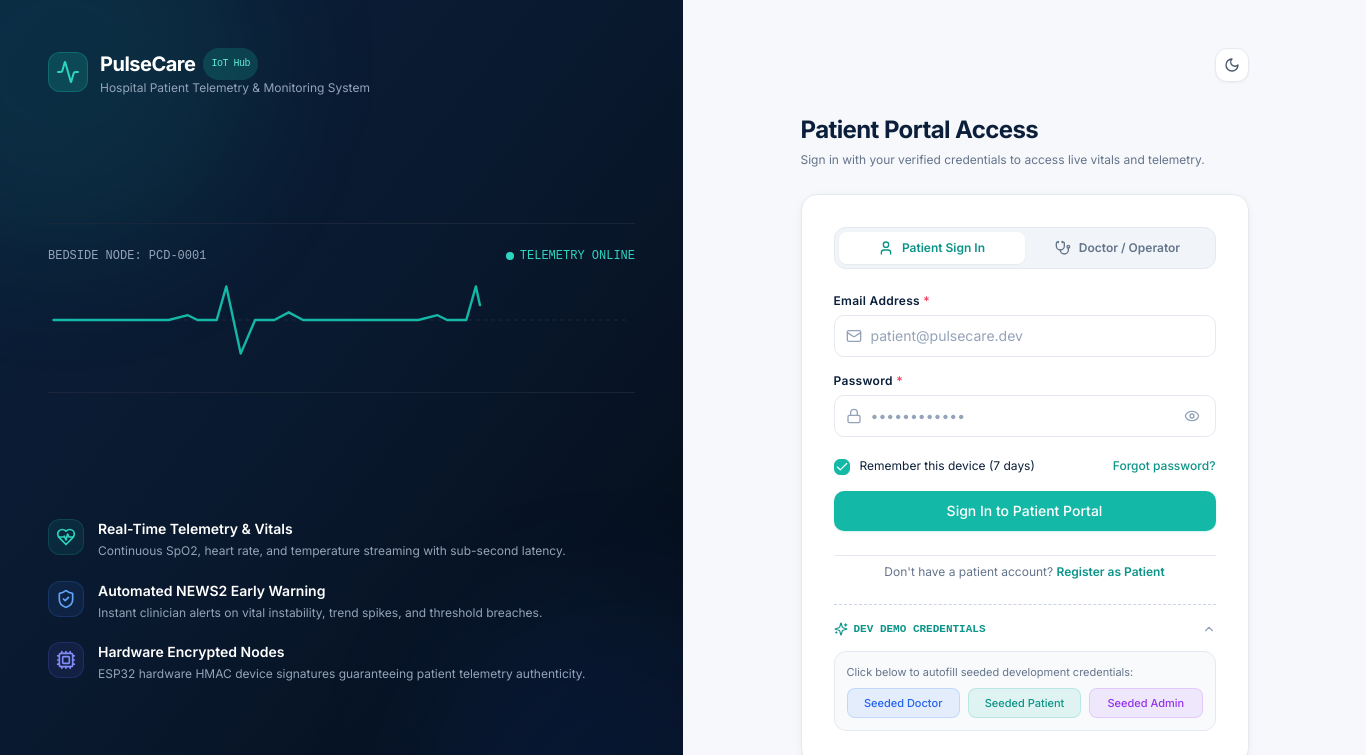
Scenario: PulseCare Frontend: LoginPage Component › displays server error message on login failure
Type "doctor@pulsecare.dev" into the field labelled "Email Address *".
click(1024, 336); type("doctor@pulsecare.dev")  # box [834,314,1216,356]
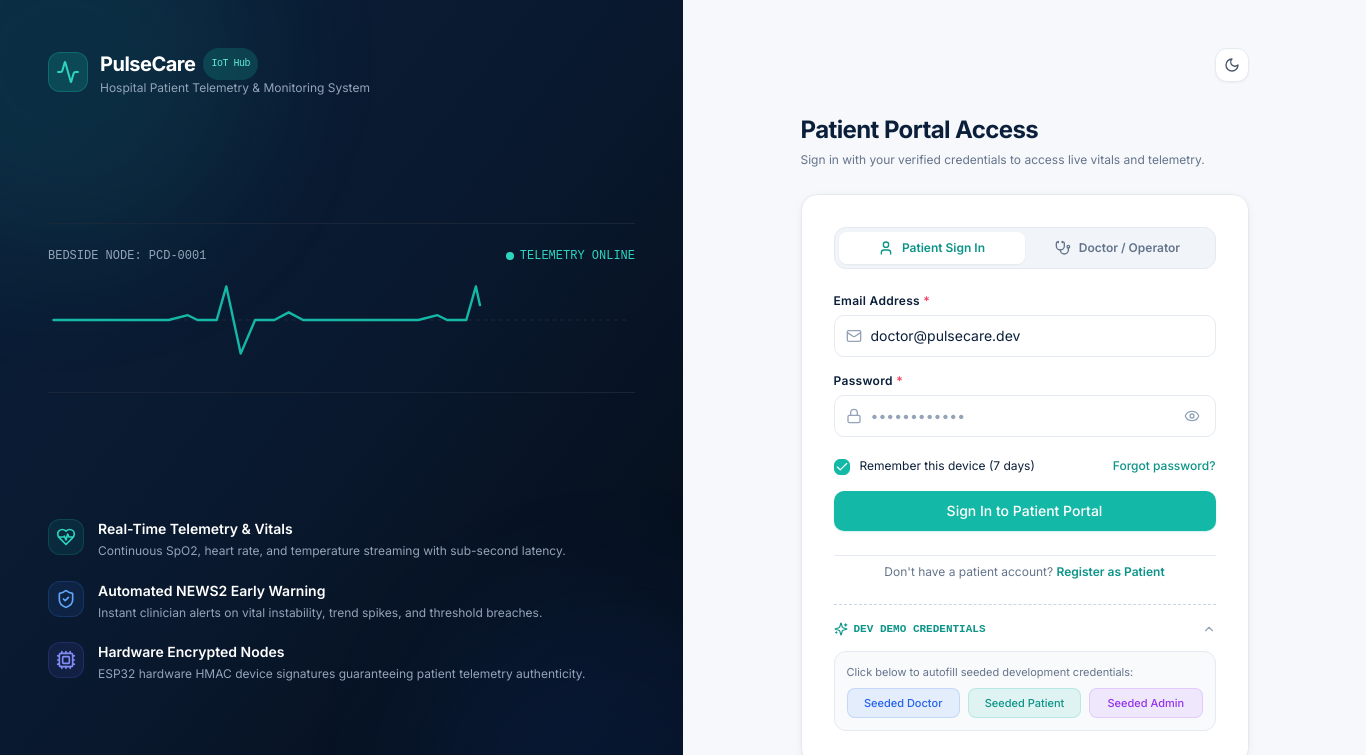
Type "WrongPass!" into the password field labelled "Password *".
click(1024, 416); type("WrongPass!")  # box [834,394,1216,436]
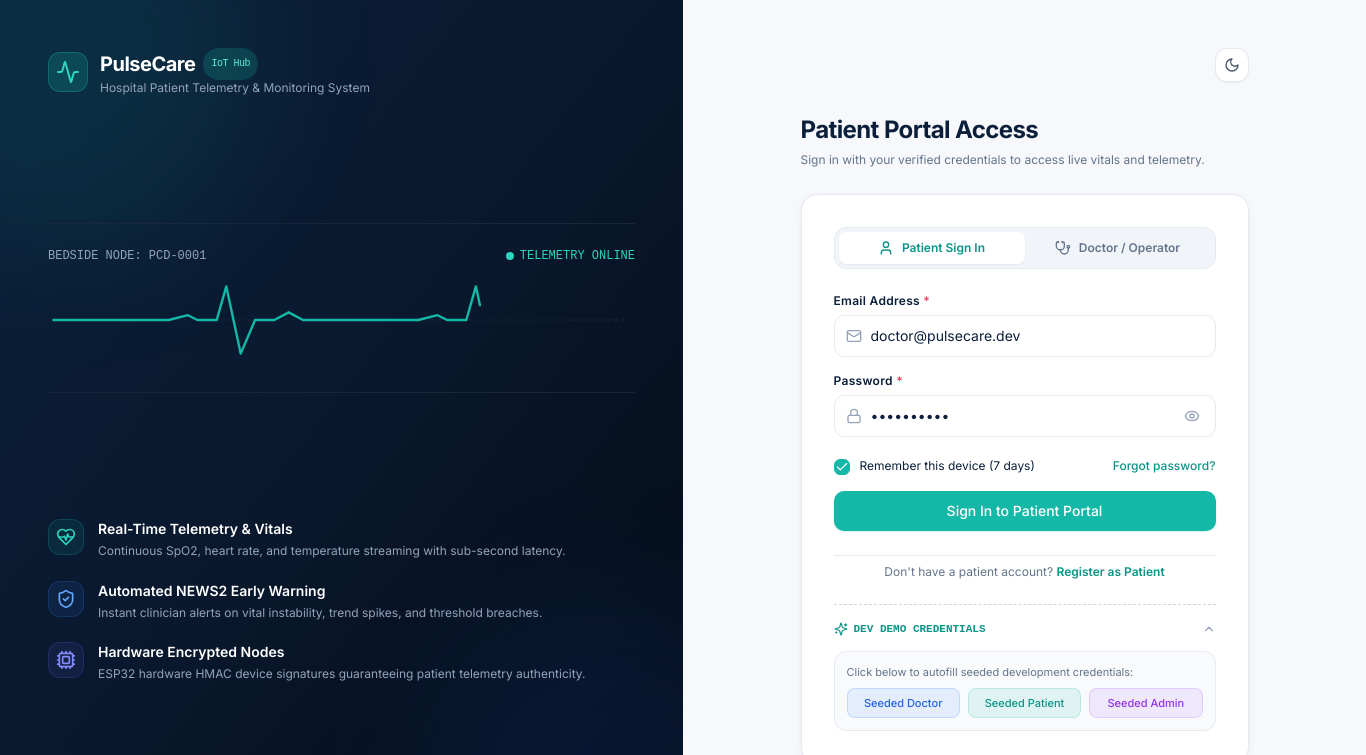
Click the submit button.
click(1024, 510)  # box [834,490,1216,530]
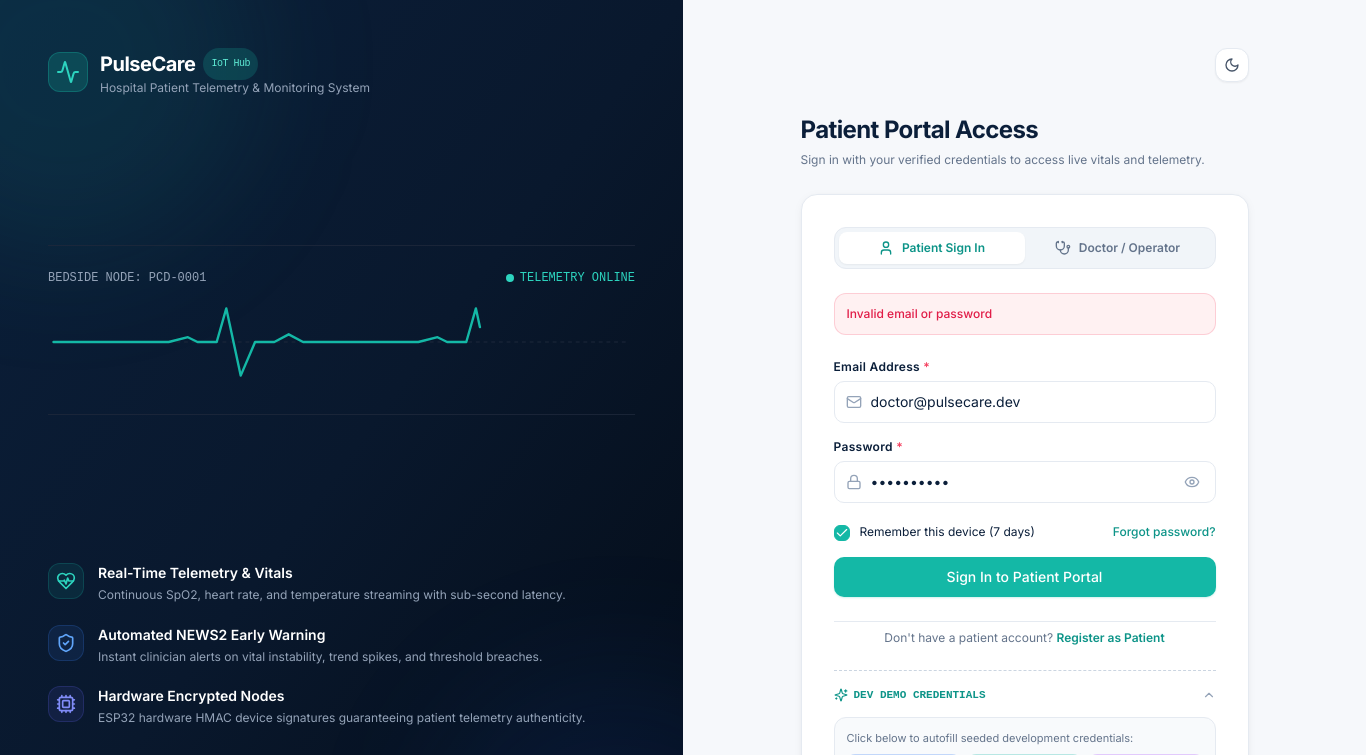
Check: the text "Invalid email or password" is shown, box [834,292,1216,334]
